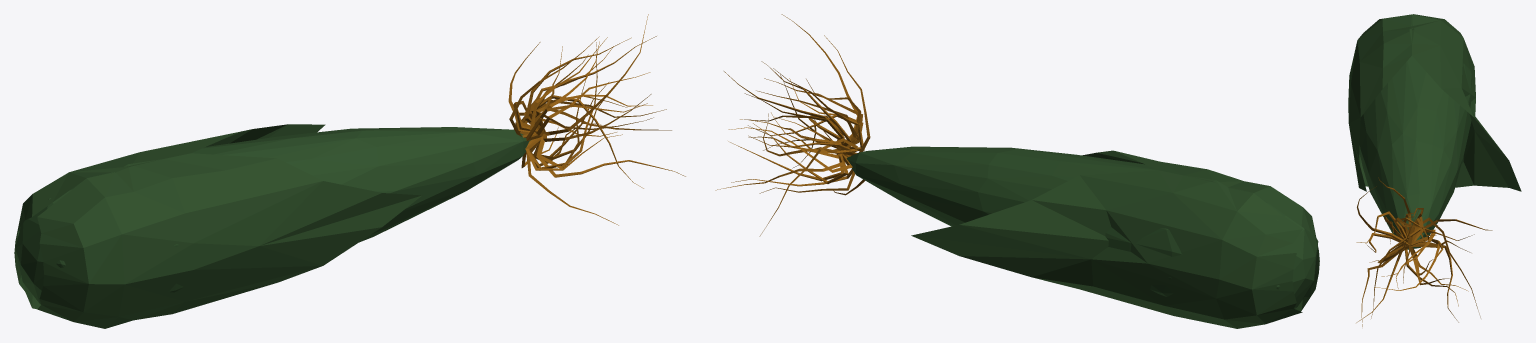
The model's file is MaizeEar.obj.
The picture shows the model from 3 angles, left to right: view 1: azimuth 30°, elevation 25°; view 2: azimuth 150°, elevation 25°; view 3: azimuth 270°, elevation 25°; orthographic projection. The views are drawn at different scales.
Visible parts, largest first — view 1: fruit; view 2: fruit; view 3: fruit.
Part boxes in pixels (bbox=[...]): fruit: bbox=[14, 14, 685, 328]; fruit: bbox=[715, 14, 1319, 328]; fruit: bbox=[1348, 14, 1521, 326].
Bounding box in the file's own units: 1.14 × 0.3333 × 0.337.
